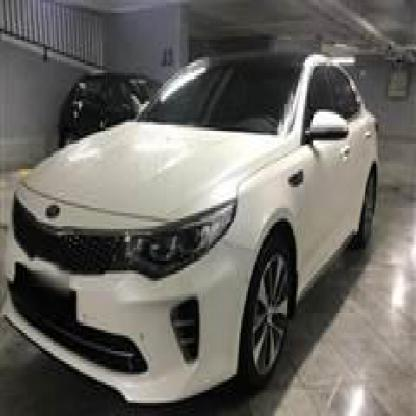car: (0, 71, 376, 400)
